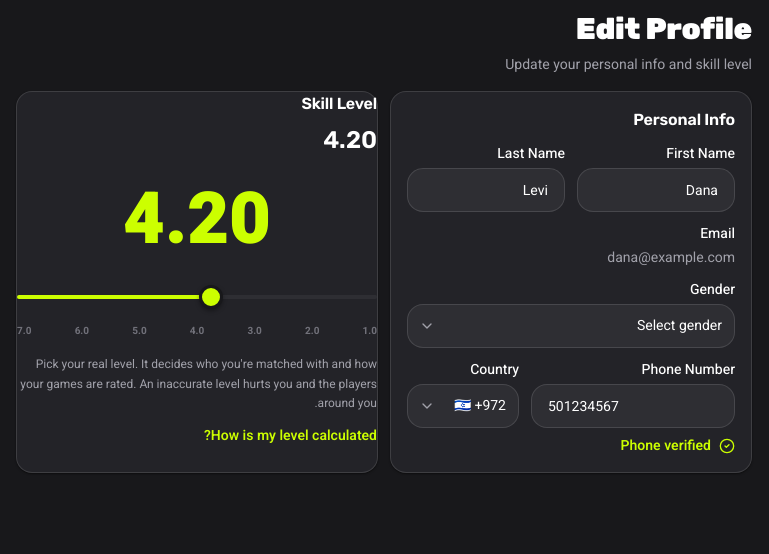
Test: EditProfilePage — validation › shows error and disables Save when first name is cleared
Clear the field labelled "First Name" at coordinates (656, 190), box [577,168,735,212]
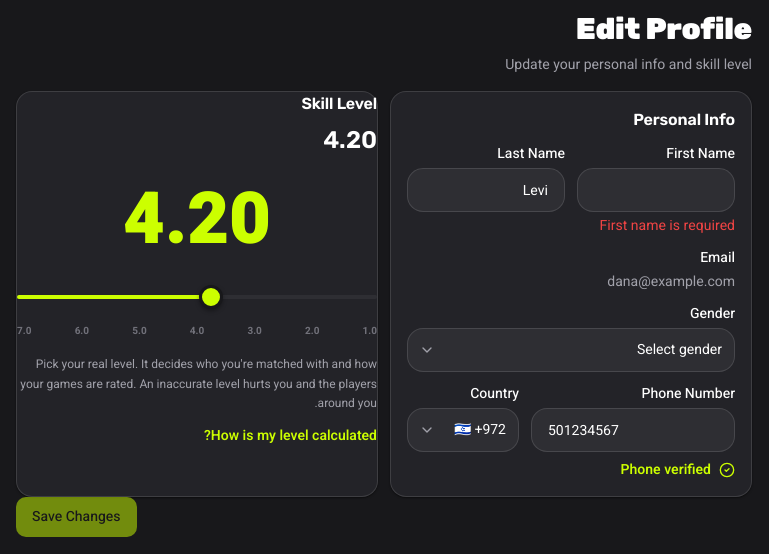
Result: the text "First name is required" is shown at [577,216,735,236]
Result: the button "Save Changes" is disabled at [16,497,136,537]
